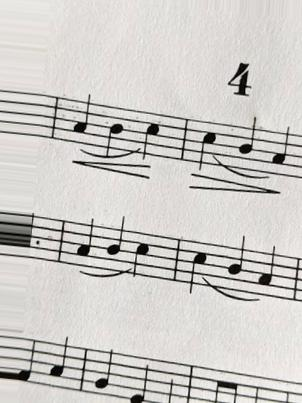note: (65, 91, 94, 145), (184, 239, 210, 299), (252, 250, 282, 301), (224, 234, 249, 294), (71, 218, 99, 270), (102, 216, 127, 273), (100, 106, 125, 159), (192, 121, 219, 170), (235, 117, 259, 172), (137, 110, 162, 162), (268, 129, 294, 178), (44, 339, 70, 387), (127, 231, 152, 279), (91, 347, 113, 400)
